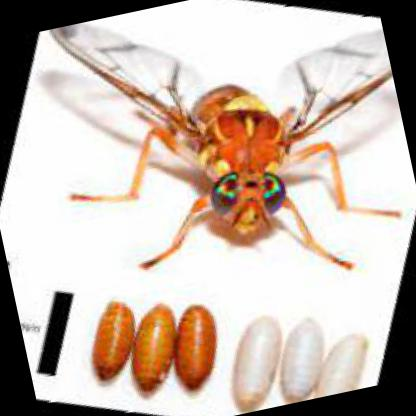fruit fly: (53, 22, 390, 271)
